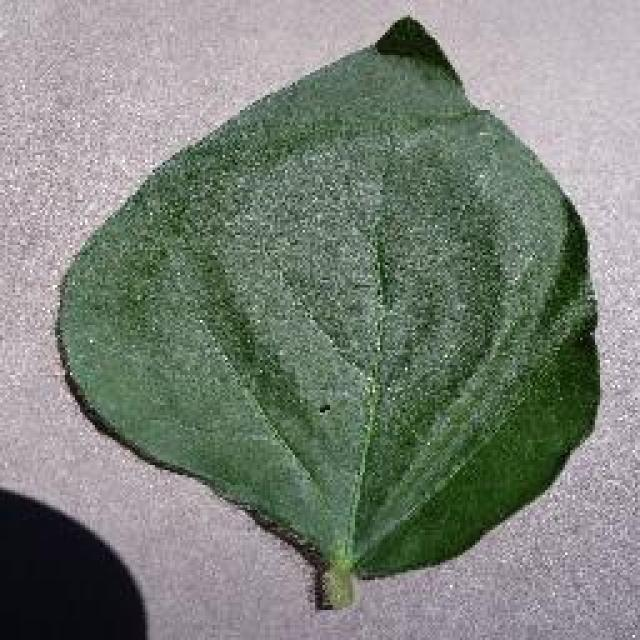Soy_healthy: (75, 81, 607, 504)
